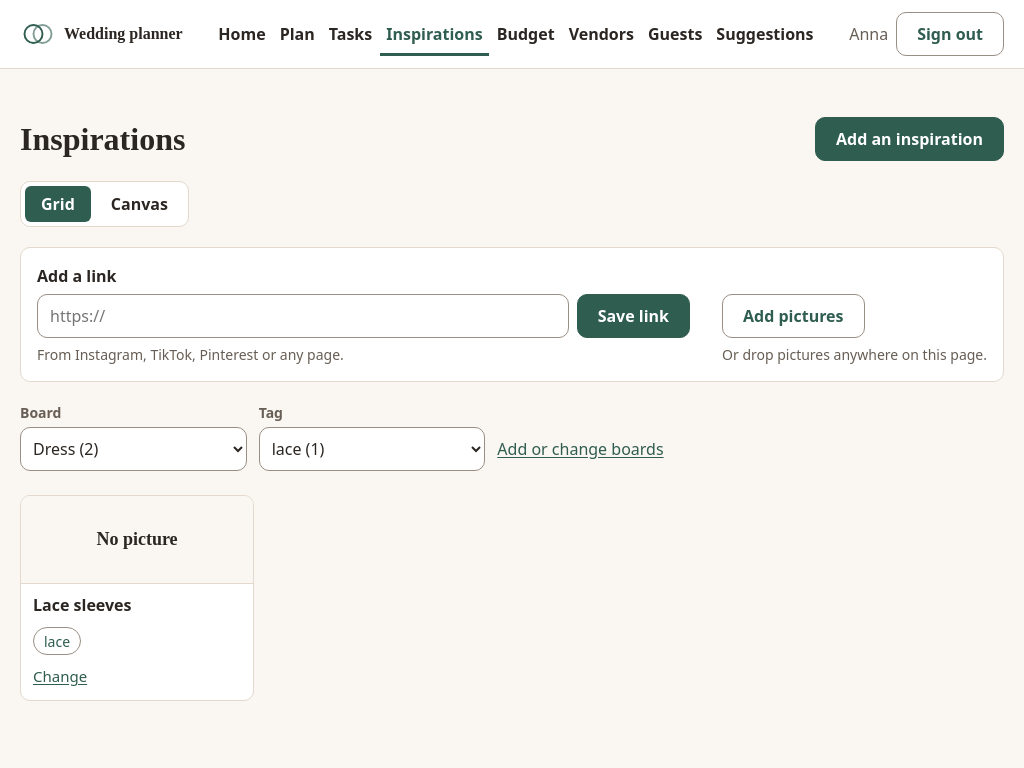
Test: the two views › has Grid and Canvas side by side, the canvas at an address of its own, and keeps the filters when it changes
Step 1. Click the link "Canvas" → (139, 204), box [111, 193, 168, 215]
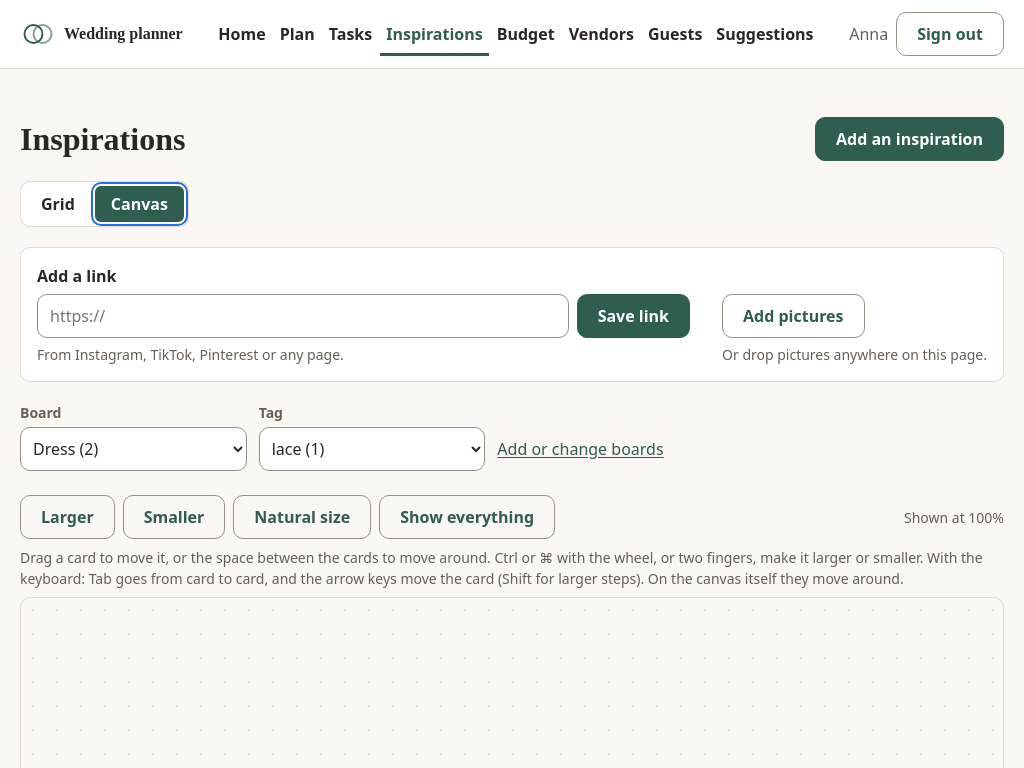
Expected: the dropdown labelled "Tag" shows "lace (1)", [259, 427, 485, 471]
Now the link "Canvas" is marked as current, box [95, 186, 184, 222]
Step 2. Click the link "Grid" → (58, 204), box [41, 193, 75, 215]
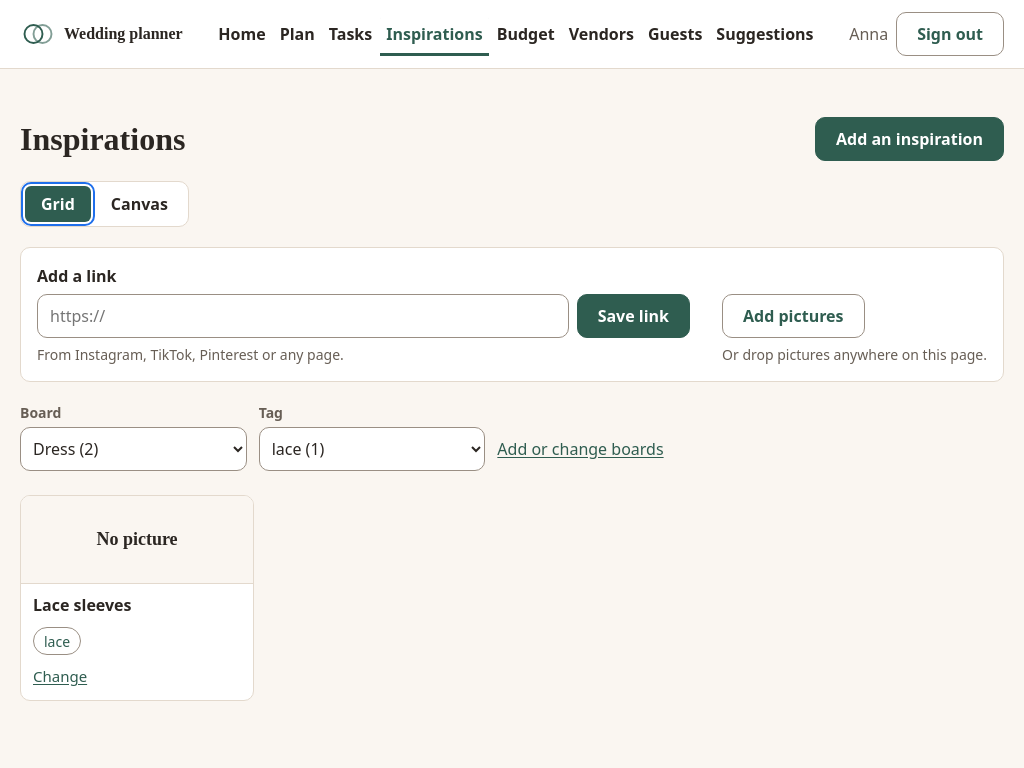
Now the element "Lace sleeves" is shown, box [20, 495, 254, 701]
